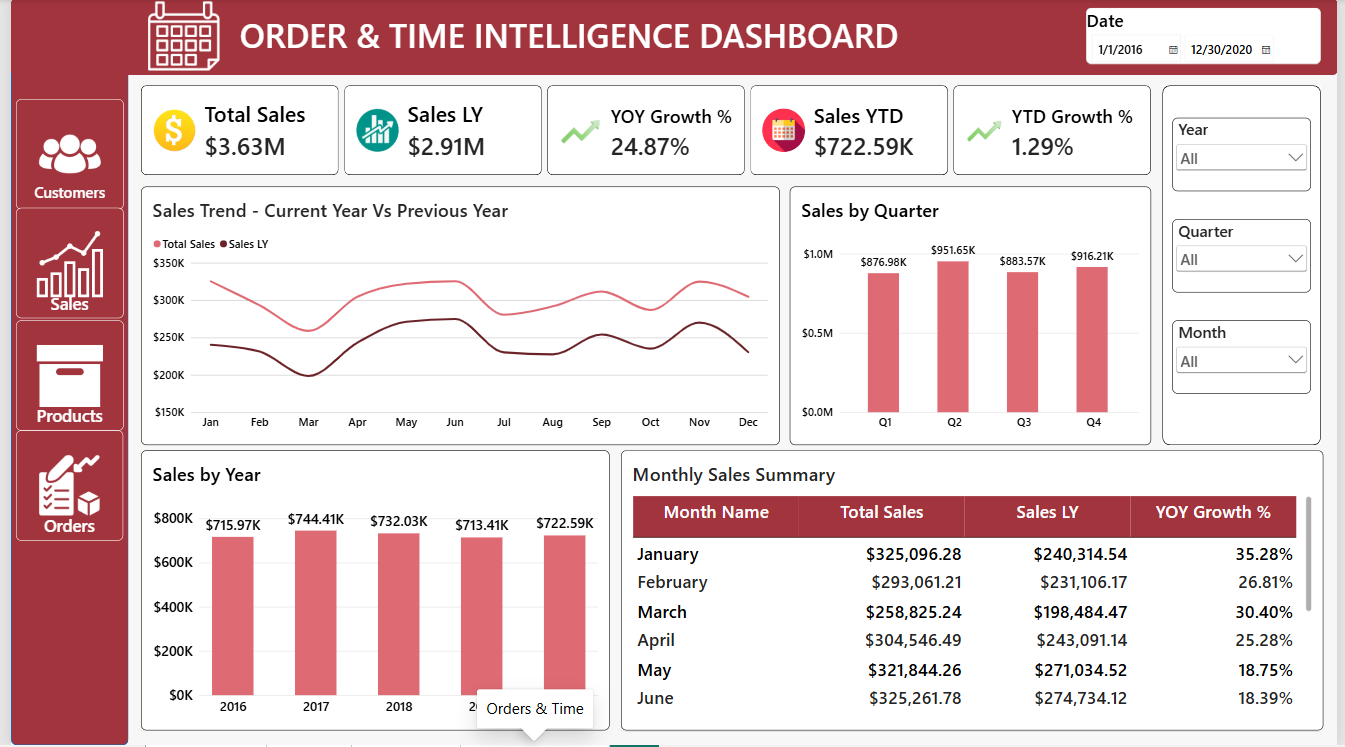

The page's visual inventory and layout, read from the dashboard file:
{"tool":"powerbi","page":{"name":"Orders & Time","canvas":[1920,1080],"ordinal":3},"visuals":[{"type":"shape","box":[0,0,170,1080.4],"z":0},{"type":"shape","box":[0,0,1920.1,110],"z":1000},{"type":"cardVisual","fields":{"Data":["KPI DAX HOME.Total Sales","KPI DAX HOME.Sales LY","KPI DAX HOME.YOY Growth %","KPI DAX HOME.Sales YTD","KPI DAX HOME.YTD Growth %"]},"box":[188.2,124.9,1462.2,130.3],"z":2000},{"type":"columnChart","title":"Sales by Year","fields":{"Category":["calender.Year"],"Y":["KPI DAX HOME.Total Sales"]},"box":[188.2,653.3,678.6,405.4],"z":3000},{"type":"clusteredColumnChart","title":"Sales by Quarter","fields":{"Category":["calender.Quarter"],"Y":["KPI DAX HOME.Total Sales"]},"box":[1127.4,271.4,523,374.6],"z":4000},{"type":"lineChart","title":"Sales Trend - Current Year Vs Previous Year","fields":{"Category":["calender.Month Name"],"Y":["KPI DAX HOME.Total Sales","KPI DAX HOME.Sales LY"]},"box":[188.2,271.4,924.7,374.6],"z":5000},{"type":"tableEx","title":"Monthly Sales Summary","fields":{"Values":["calender.Month Name","KPI DAX HOME.Total Sales","KPI DAX HOME.Sales LY","KPI DAX HOME.YOY Growth %"]},"box":[883.1,653.3,1017,405.4],"z":6000},{"type":"shape","box":[1666.7,124.9,229.8,521.2],"z":7000},{"type":"slicer","fields":{"Values":["calender.Year"]},"box":[1681.2,171.9,200.9,106.8],"z":8000},{"type":"slicer","fields":{"Values":["calender.Quarter"]},"box":[1681.2,318.5,200.9,106],"z":9000},{"type":"slicer","fields":{"Values":["calender.Month Name"]},"box":[1681.2,465.1,200.9,106],"z":10000},{"type":"slicer","title":"Date","fields":{"Values":["calender.Date"]},"box":[1556,12,340.2,81.4],"z":11000},{"type":"actionButton","title":"Customer","box":[7.2,144.8,155.6,160],"z":12000},{"type":"actionButton","title":"Customer","box":[7.2,302.2,155.6,160],"z":13000},{"type":"actionButton","title":"Customer","box":[7.2,465.1,155.6,160],"z":14000},{"type":"actionButton","title":"Customer","box":[7.2,624.3,155,160],"z":15000},{"type":"image","box":[170.1,0,159.3,110.4],"z":15001},{"type":"textbox","box":[305.8,0,1004.4,110.4],"z":15002}]}

Visuals, with their boxes in screenshot pixels (x1, y1, x2, y2), scaled from the page's 1920x1080 canvas onto the 1345x747 screenshot:
shape: select_region(0, 0, 119, 746)
shape: select_region(0, 0, 1344, 76)
cardVisual - KPI DAX HOME.Total Sales x KPI DAX HOME.Sales LY: select_region(132, 86, 1156, 177)
"Sales by Year" columnChart: select_region(132, 452, 607, 732)
"Sales by Quarter" clusteredColumnChart: select_region(790, 188, 1156, 447)
"Sales Trend - Current Year Vs Previous Year" lineChart: select_region(132, 188, 780, 447)
"Monthly Sales Summary" tableEx: select_region(619, 452, 1331, 732)
shape: select_region(1168, 86, 1329, 447)
slicer - calender.Year: select_region(1178, 119, 1318, 193)
slicer - calender.Quarter: select_region(1178, 220, 1318, 294)
slicer - calender.Month Name: select_region(1178, 322, 1318, 395)
"Date" slicer: select_region(1090, 8, 1328, 65)
"Customer" actionButton: select_region(5, 100, 114, 211)
"Customer" actionButton: select_region(5, 209, 114, 320)
"Customer" actionButton: select_region(5, 322, 114, 432)
"Customer" actionButton: select_region(5, 432, 114, 542)
image: select_region(119, 0, 231, 76)
textbox: select_region(214, 0, 918, 76)
